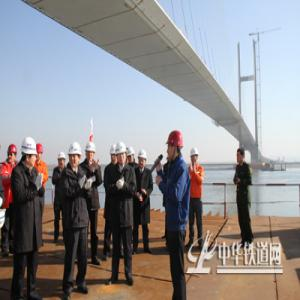none: (237, 148, 247, 166)
red: (166, 130, 184, 163), (8, 144, 18, 165), (36, 144, 45, 161)
white: (21, 138, 37, 167), (68, 143, 82, 167), (116, 142, 128, 168), (85, 143, 97, 162), (138, 150, 148, 169), (190, 147, 200, 164), (57, 152, 67, 169), (110, 145, 118, 166), (127, 147, 135, 164)
